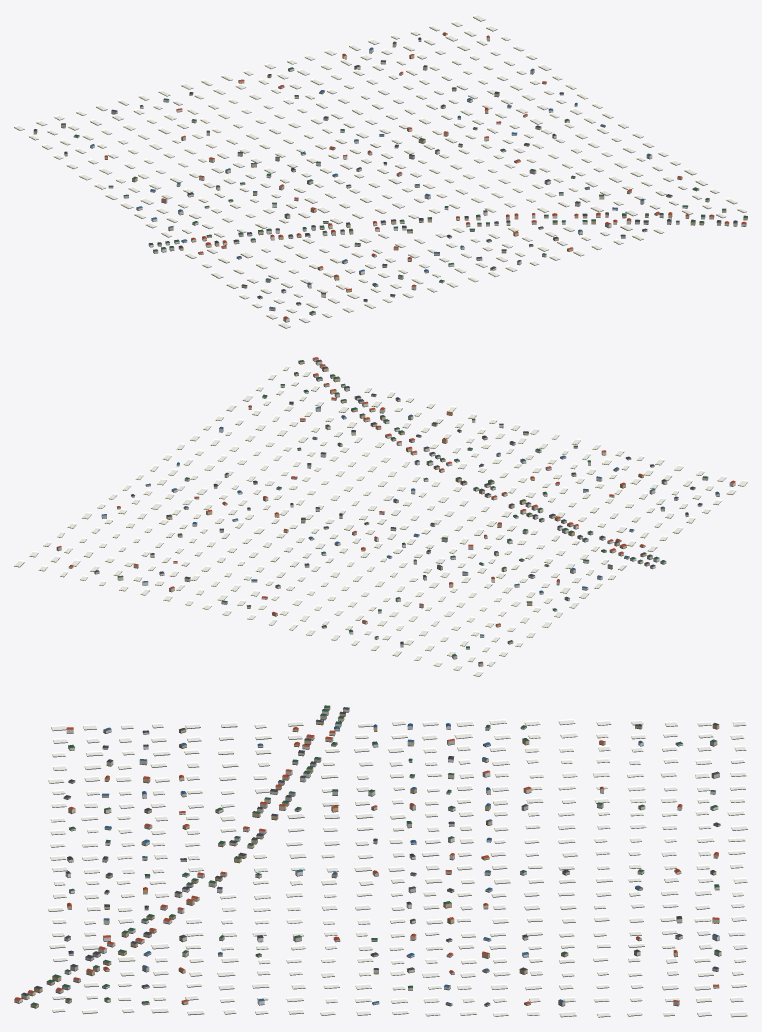
Rendered from buildings_T_E04_N00.glb.
3 renders of one model, top to bottom at view 1: azimuth 30°, elevation 25°; view 2: azimuth 150°, elevation 25°; view 3: azimuth 270°, elevation 25°, orthographic. The views are drawn at different scales.
Visible parts, largest first — view 1: T_E04_N00_roofs_agri_greenhouse_arch, T_E04_N00_slope_seating_foundations, T_E04_N00_walls_wall_french_ochre_villa, T_E04_N00_walls_wall_dalat_cream_stucco, T_E04_N00_roofs_roof_pine_green_hip, T_E04_N00_roofs_roof_slate_French_villa_hip, T_E04_N00_walls_wall_modern_warm_white, T_E04_N00_roofs_roof_terracotta_gable, T_E04_N00_walls_wall_pastel_sand_gray; view 2: T_E04_N00_roofs_agri_greenhouse_arch, T_E04_N00_slope_seating_foundations, T_E04_N00_walls_wall_french_ochre_villa, T_E04_N00_walls_wall_dalat_cream_stucco, T_E04_N00_walls_wall_modern_warm_white, T_E04_N00_roofs_roof_pine_green_hip, T_E04_N00_roofs_roof_slate_French_villa_hip, T_E04_N00_walls_wall_pastel_sand_gray, T_E04_N00_roofs_roof_terracotta_gable; view 3: T_E04_N00_roofs_agri_greenhouse_arch, T_E04_N00_slope_seating_foundations, T_E04_N00_walls_wall_french_ochre_villa, T_E04_N00_walls_wall_dalat_cream_stucco, T_E04_N00_roofs_roof_pine_green_hip, T_E04_N00_roofs_roof_slate_French_villa_hip, T_E04_N00_walls_wall_modern_warm_white, T_E04_N00_walls_wall_pastel_sand_gray, T_E04_N00_roofs_roof_terracotta_gable, T_E04_N00_roofs_roof_highland_blue_gable.
Part boxes in pixels (box(x1,y1,x2,y2)): T_E04_N00_roofs_agri_greenhouse_arch: box(14, 14, 746, 327); T_E04_N00_slope_seating_foundations: box(14, 16, 747, 328); T_E04_N00_walls_wall_french_ochre_villa: box(33, 55, 747, 301); T_E04_N00_walls_wall_dalat_cream_stucco: box(165, 33, 737, 315); T_E04_N00_roofs_roof_pine_green_hip: box(61, 41, 747, 313); T_E04_N00_roofs_roof_slate_French_villa_hip: box(33, 37, 737, 304); T_E04_N00_walls_wall_modern_warm_white: box(73, 48, 746, 322); T_E04_N00_roofs_roof_terracotta_gable: box(104, 32, 746, 319); T_E04_N00_walls_wall_pastel_sand_gray: box(61, 37, 714, 305); T_E04_N00_roofs_agri_greenhouse_arch: box(14, 365, 747, 676); T_E04_N00_slope_seating_foundations: box(14, 360, 747, 676); T_E04_N00_walls_wall_french_ochre_villa: box(117, 361, 688, 666); T_E04_N00_walls_wall_dalat_cream_stucco: box(68, 361, 719, 612); T_E04_N00_walls_wall_modern_warm_white: box(142, 358, 735, 649); T_E04_N00_roofs_roof_pine_green_hip: box(118, 360, 707, 656); T_E04_N00_roofs_roof_slate_French_villa_hip: box(94, 359, 702, 663); T_E04_N00_walls_wall_pastel_sand_gray: box(56, 374, 695, 658); T_E04_N00_roofs_roof_terracotta_gable: box(57, 357, 735, 625); T_E04_N00_roofs_agri_greenhouse_arch: box(48, 718, 747, 1016); T_E04_N00_slope_seating_foundations: box(14, 709, 747, 1017); T_E04_N00_walls_wall_french_ochre_villa: box(30, 713, 720, 1007); T_E04_N00_walls_wall_dalat_cream_stucco: box(21, 717, 721, 1002); T_E04_N00_roofs_roof_pine_green_hip: box(31, 705, 721, 1005); T_E04_N00_roofs_roof_slate_French_villa_hip: box(21, 707, 720, 1004); T_E04_N00_walls_wall_modern_warm_white: box(14, 709, 719, 1004); T_E04_N00_walls_wall_pastel_sand_gray: box(55, 707, 719, 1006); T_E04_N00_roofs_roof_terracotta_gable: box(14, 727, 719, 1004); T_E04_N00_roofs_roof_highland_blue_gable: box(101, 723, 718, 1004).
Bounding box in the file's own units: 1835 × 29.31 × 1856.
